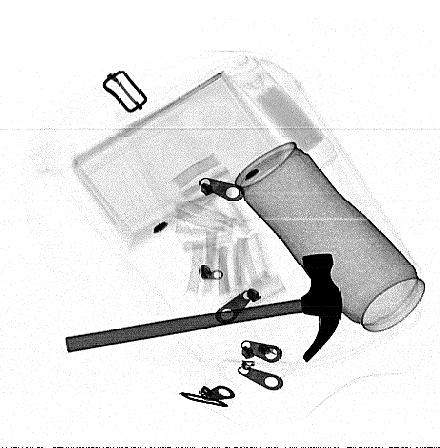Hammer: (65, 253, 344, 363)
